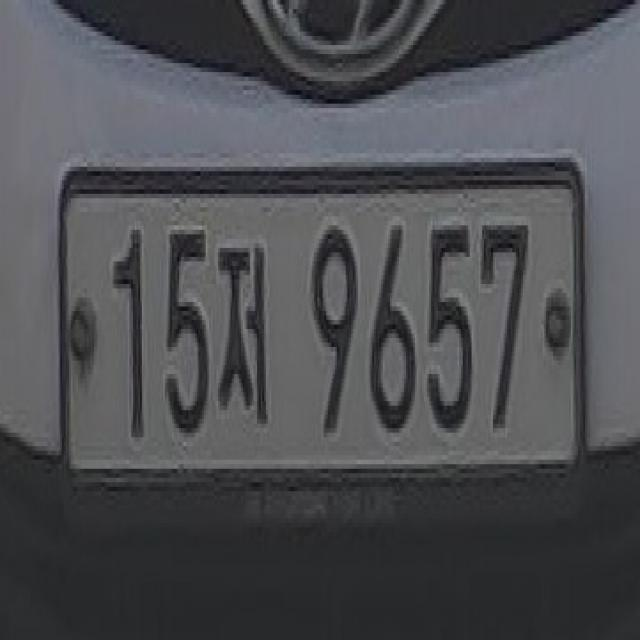1: (108, 203, 154, 455)
5: (160, 207, 212, 451), (424, 203, 475, 451)
6: (365, 198, 422, 451)
7: (475, 198, 537, 442)
9: (305, 203, 365, 446)
jeo: (214, 216, 275, 428)
license_plate: (54, 135, 590, 541)
